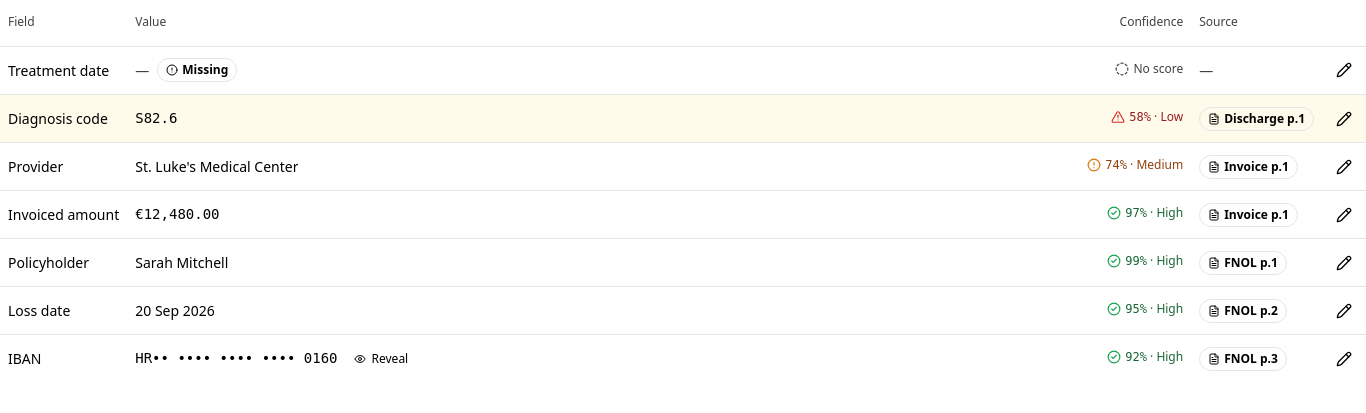
Test: ExtractedFieldsTable › enters a value for a missing field and says the agent found none
Click the button named "Correct Treatment date" at (1344, 70), box [1330,56,1358,84]
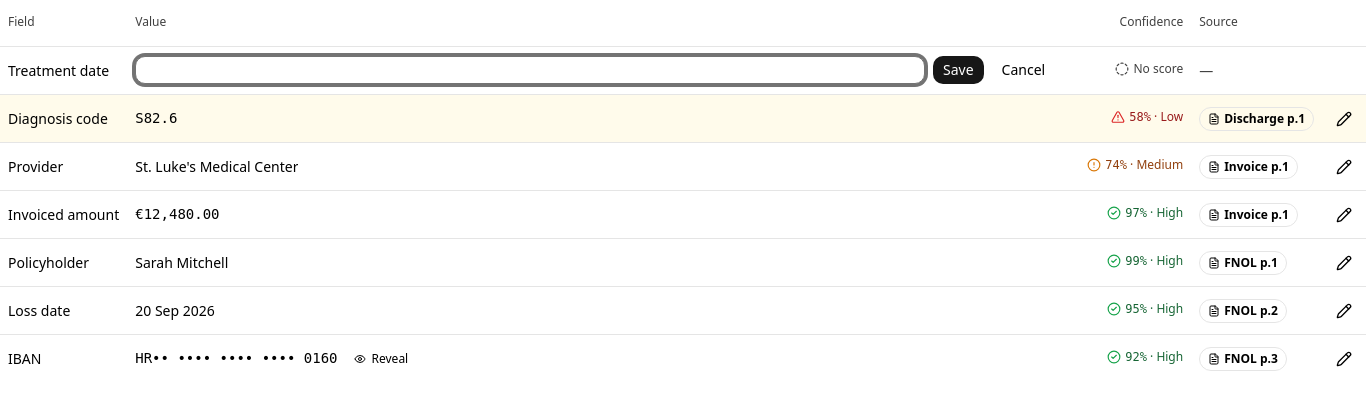
Type "19 Sep 2026" into the field named "Edit Treatment date" at (530, 70), box [135,56,925,84]
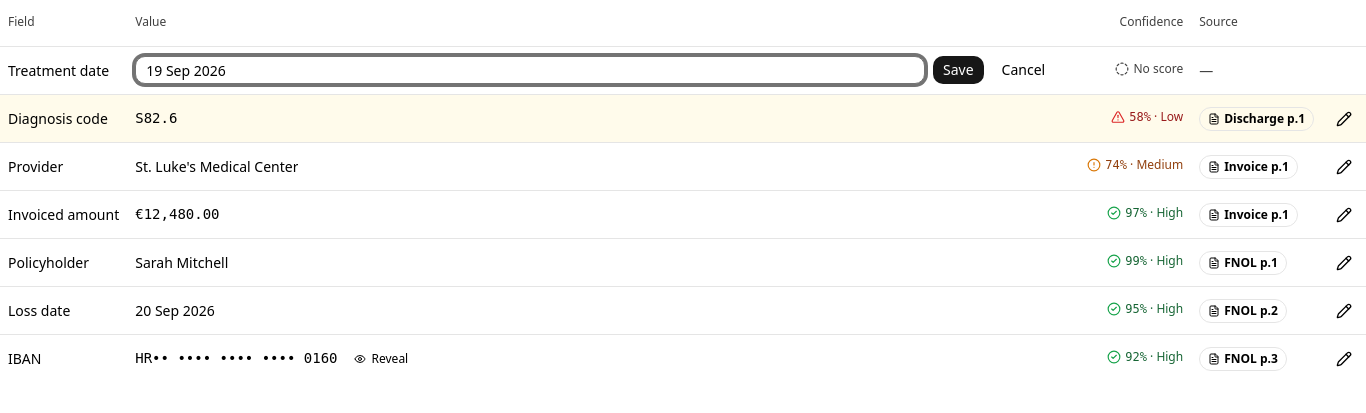
Press Enter
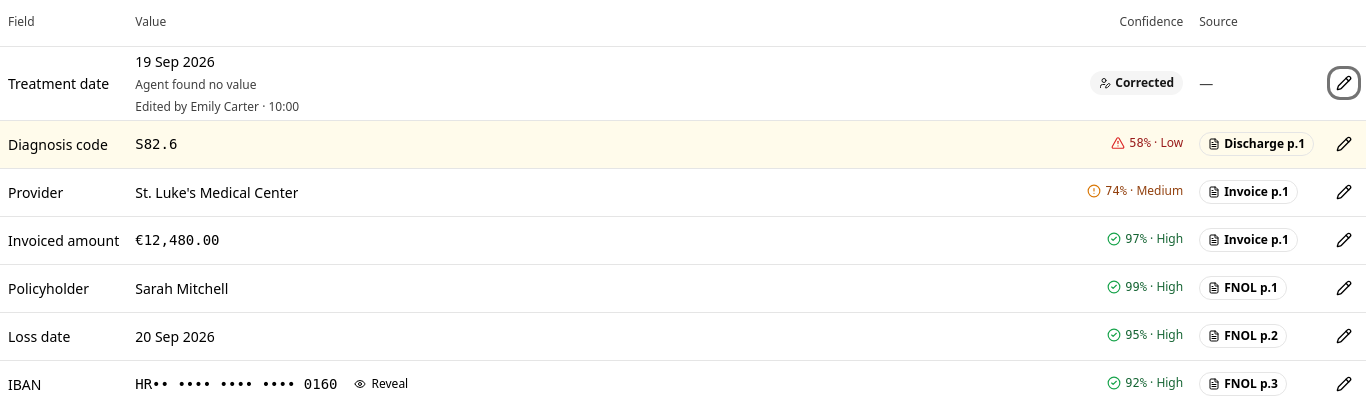
Expected: the text "19 Sep 2026" is shown, [135,50,215,72]
Expected: the text "Agent found no value" is shown, [135,76,256,92]
